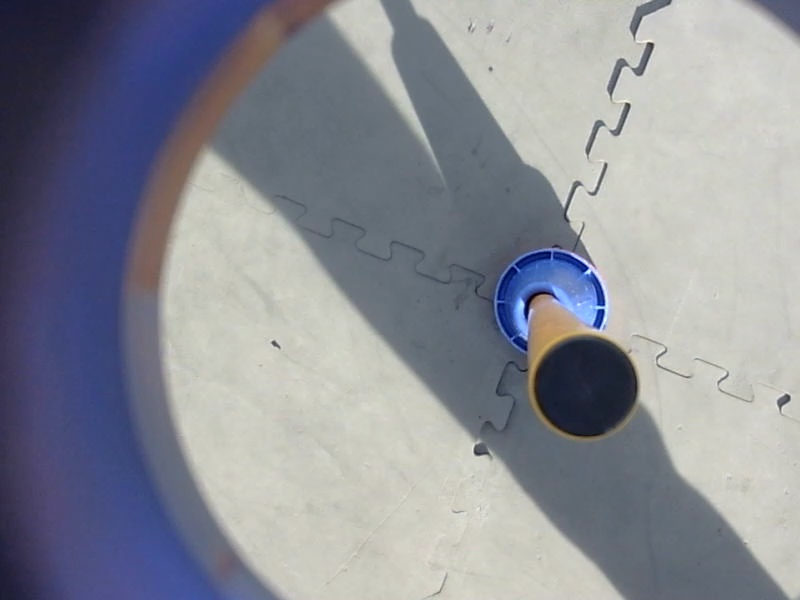tip: (522, 328, 646, 448)
